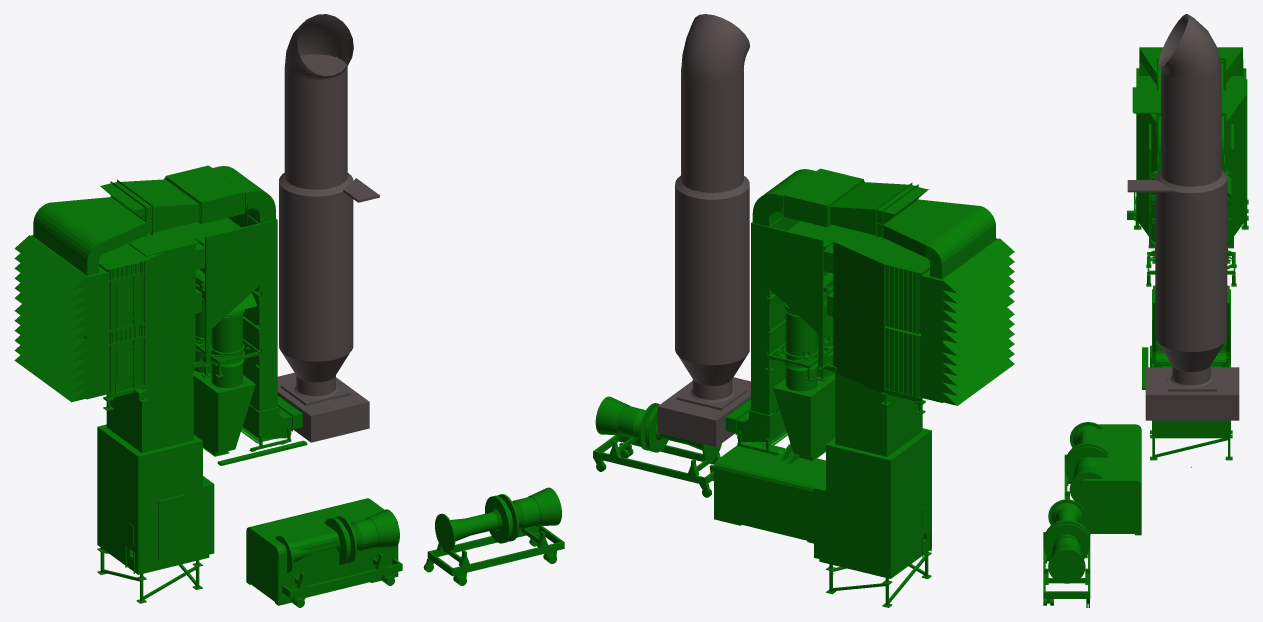
Rendered from Image-1711348127661-2280743036688_27-KZ50.fbx.
3 renders of one model, left to right at view 1: azimuth 30°, elevation 25°; view 2: azimuth 150°, elevation 25°; view 3: azimuth 270°, elevation 25°, orthographic. The views are drawn at different scales.
Parts seen in each view (by area): view 1: CYLINDER 4 of SUBEQUIPMENT /DV-HE-M-EQU-EXHAUST, EXTRUSION 1 of SUBEQUIPMENT /DV-HE-M-EQU-TURBINE_LAYDOWN_ARE, BOX 1 of SUBEQUIPMENT /DV-HE-M-EQU-SILENCER, CYLINDER 3 of SUBEQUIPMENT /DV-HE-M-EQU-EXHAUST, CYLINDER 2 of SUBEQUIPMENT /DV-HE-M-EQU-EXHAUST, BOX 3 of SUBEQUIPMENT /DV-HE-M-EQU-SILENCER, BOX 1 of SUBEQUIPMENT /DV-HE-M-EQU-COMBUSTION_INLET, BOX 7 of SUBEQUIPMENT /DV-HE-M-EQU-VENT_OUTLET, EXTRUSION 10 of SUBEQUIPMENT /DV-HE-M-EQU-VENT_FANS, PYRAMID 14 of SUBEQUIPMENT /DV-HE-M-EQU-FILTERHOUSE, PYRAMID 1 of SUBEQUIPMENT /DV-HE-M-EQU-VENT_INLET, PYRAMID 1 of SUBEQUIPMENT /DV-HE-M-EQU-FILTERHOUSE (+35 smaller); view 2: BOX 1 of SUBEQUIPMENT /DV-HE-M-EQU-SILENCER, CYLINDER 4 of SUBEQUIPMENT /DV-HE-M-EQU-EXHAUST, EXTRUSION 1 of SUBEQUIPMENT /DV-HE-M-EQU-TURBINE_LAYDOWN_ARE, CYLINDER 2 of SUBEQUIPMENT /DV-HE-M-EQU-EXHAUST, CYLINDER 3 of SUBEQUIPMENT /DV-HE-M-EQU-EXHAUST, BOX 3 of SUBEQUIPMENT /DV-HE-M-EQU-SILENCER, BOX 1 of SUBEQUIPMENT /DV-HE-M-EQU-COMBUSTION_INLET, BOX 7 of SUBEQUIPMENT /DV-HE-M-EQU-VENT_OUTLET, EXTRUSION 11 of SUBEQUIPMENT /DV-HE-M-EQU-VENT_FANS, PYRAMID 1 of SUBEQUIPMENT /DV-HE-M-EQU-FILTERHOUSE, PYRAMID 14 of SUBEQUIPMENT /DV-HE-M-EQU-FILTERHOUSE, CTORUS 1 of SUBEQUIPMENT /DV-HE-M-EQU-EXHAUST (+36 smaller); view 3: CYLINDER 4 of SUBEQUIPMENT /DV-HE-M-EQU-EXHAUST, CYLINDER 3 of SUBEQUIPMENT /DV-HE-M-EQU-EXHAUST, CYLINDER 2 of SUBEQUIPMENT /DV-HE-M-EQU-EXHAUST, EXTRUSION 1 of SUBEQUIPMENT /DV-HE-M-EQU-TURBINE_LAYDOWN_ARE, BOX 2 of SUBEQUIPMENT /DV-HE-M-EQU-EXHAUST, CTORUS 1 of SUBEQUIPMENT /DV-HE-M-EQU-EXHAUST, PYRAMID 1 of SUBEQUIPMENT /DV-HE-M-EQU-FILTERHOUSE, PYRAMID 14 of SUBEQUIPMENT /DV-HE-M-EQU-FILTERHOUSE, BOX 16 of SUBEQUIPMENT /DV-HE-M-EQU-SILENCER, CONE 1 of SUBEQUIPMENT /DV-HE-M-EQU-TURBIN_WAGON_IN_ACTION, SNOUT 2 of SUBEQUIPMENT /DV-HE-M-EQU-EXHAUST, EXTRUSION 2 of SUBEQUIPMENT /DV-HE-M-EQU-ANTI_ICING (+15 smaller).
Boxes of the visible parts, x1,y1,x2,y2 form: CYLINDER 4 of SUBEQUIPMENT /DV-HE-M-EQU-EXHAUST: (284, 54, 347, 189); EXTRUSION 1 of SUBEQUIPMENT /DV-HE-M-EQU-TURBINE_LAYDOWN_ARE: (246, 498, 398, 589); BOX 1 of SUBEQUIPMENT /DV-HE-M-EQU-SILENCER: (97, 473, 209, 574); CYLINDER 3 of SUBEQUIPMENT /DV-HE-M-EQU-EXHAUST: (279, 265, 353, 361); CYLINDER 2 of SUBEQUIPMENT /DV-HE-M-EQU-EXHAUST: (279, 173, 353, 278); BOX 3 of SUBEQUIPMENT /DV-HE-M-EQU-SILENCER: (97, 424, 202, 502); BOX 1 of SUBEQUIPMENT /DV-HE-M-EQU-COMBUSTION_INLET: (106, 369, 193, 452); BOX 7 of SUBEQUIPMENT /DV-HE-M-EQU-VENT_OUTLET: (228, 215, 277, 411); EXTRUSION 10 of SUBEQUIPMENT /DV-HE-M-EQU-VENT_FANS: (205, 223, 260, 360); PYRAMID 14 of SUBEQUIPMENT /DV-HE-M-EQU-FILTERHOUSE: (144, 293, 195, 389); PYRAMID 1 of SUBEQUIPMENT /DV-HE-M-EQU-VENT_INLET: (193, 370, 255, 453); PYRAMID 1 of SUBEQUIPMENT /DV-HE-M-EQU-FILTERHOUSE: (108, 226, 195, 315); BOX 1 of SUBEQUIPMENT /DV-HE-M-EQU-SILENCER: (819, 477, 931, 578); CYLINDER 4 of SUBEQUIPMENT /DV-HE-M-EQU-EXHAUST: (681, 69, 743, 192); EXTRUSION 1 of SUBEQUIPMENT /DV-HE-M-EQU-TURBINE_LAYDOWN_ARE: (714, 445, 825, 526); CYLINDER 2 of SUBEQUIPMENT /DV-HE-M-EQU-EXHAUST: (675, 178, 749, 282); CYLINDER 3 of SUBEQUIPMENT /DV-HE-M-EQU-EXHAUST: (675, 268, 749, 365); BOX 3 of SUBEQUIPMENT /DV-HE-M-EQU-SILENCER: (826, 428, 931, 506); BOX 1 of SUBEQUIPMENT /DV-HE-M-EQU-COMBUSTION_INLET: (835, 372, 922, 456); BOX 7 of SUBEQUIPMENT /DV-HE-M-EQU-VENT_OUTLET: (751, 218, 800, 414); EXTRUSION 11 of SUBEQUIPMENT /DV-HE-M-EQU-VENT_FANS: (768, 226, 823, 364); PYRAMID 1 of SUBEQUIPMENT /DV-HE-M-EQU-FILTERHOUSE: (833, 229, 905, 319); PYRAMID 14 of SUBEQUIPMENT /DV-HE-M-EQU-FILTERHOUSE: (833, 296, 886, 392); CTORUS 1 of SUBEQUIPMENT /DV-HE-M-EQU-EXHAUST: (681, 14, 750, 83); CYLINDER 4 of SUBEQUIPMENT /DV-HE-M-EQU-EXHAUST: (1161, 61, 1221, 186); CYLINDER 3 of SUBEQUIPMENT /DV-HE-M-EQU-EXHAUST: (1155, 258, 1227, 351); CYLINDER 2 of SUBEQUIPMENT /DV-HE-M-EQU-EXHAUST: (1155, 170, 1227, 272); EXTRUSION 1 of SUBEQUIPMENT /DV-HE-M-EQU-TURBINE_LAYDOWN_ARE: (1080, 424, 1141, 519); BOX 2 of SUBEQUIPMENT /DV-HE-M-EQU-EXHAUST: (1145, 367, 1239, 420); CTORUS 1 of SUBEQUIPMENT /DV-HE-M-EQU-EXHAUST: (1158, 14, 1221, 81); PYRAMID 1 of SUBEQUIPMENT /DV-HE-M-EQU-FILTERHOUSE: (1136, 94, 1246, 170); PYRAMID 14 of SUBEQUIPMENT /DV-HE-M-EQU-FILTERHOUSE: (1136, 147, 1246, 242); BOX 16 of SUBEQUIPMENT /DV-HE-M-EQU-SILENCER: (1155, 420, 1228, 438); CONE 1 of SUBEQUIPMENT /DV-HE-M-EQU-TURBIN_WAGON_IN_ACTION: (1048, 544, 1085, 583); SNOUT 2 of SUBEQUIPMENT /DV-HE-M-EQU-EXHAUST: (1158, 343, 1224, 372); EXTRUSION 2 of SUBEQUIPMENT /DV-HE-M-EQU-ANTI_ICING: (1140, 49, 1242, 85).
Size of the model in its own units: 20.65 by 8.58 by 23.64.
